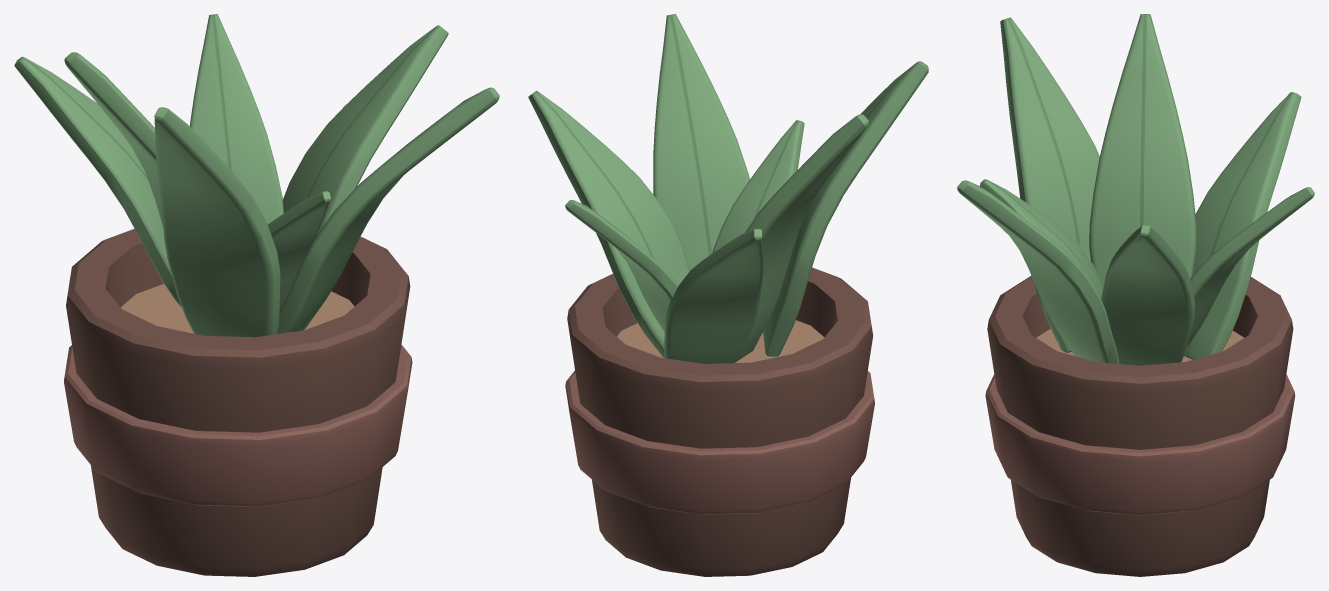
The model's file is Plant.fbx.
3 renders of one model, left to right at view 1: azimuth 30°, elevation 25°; view 2: azimuth 150°, elevation 25°; view 3: azimuth 270°, elevation 25°, orthographic. The views are drawn at different scales.
Visible parts, largest first — view 1: Pot; view 2: Pot; view 3: Pot.
Part boxes in pixels (x1,y1,x2,y2): Pot: [14, 14, 499, 576]; Pot: [528, 14, 928, 576]; Pot: [957, 14, 1314, 576].
Size of the model in its own units: 69.4 by 88.78 by 64.2.
